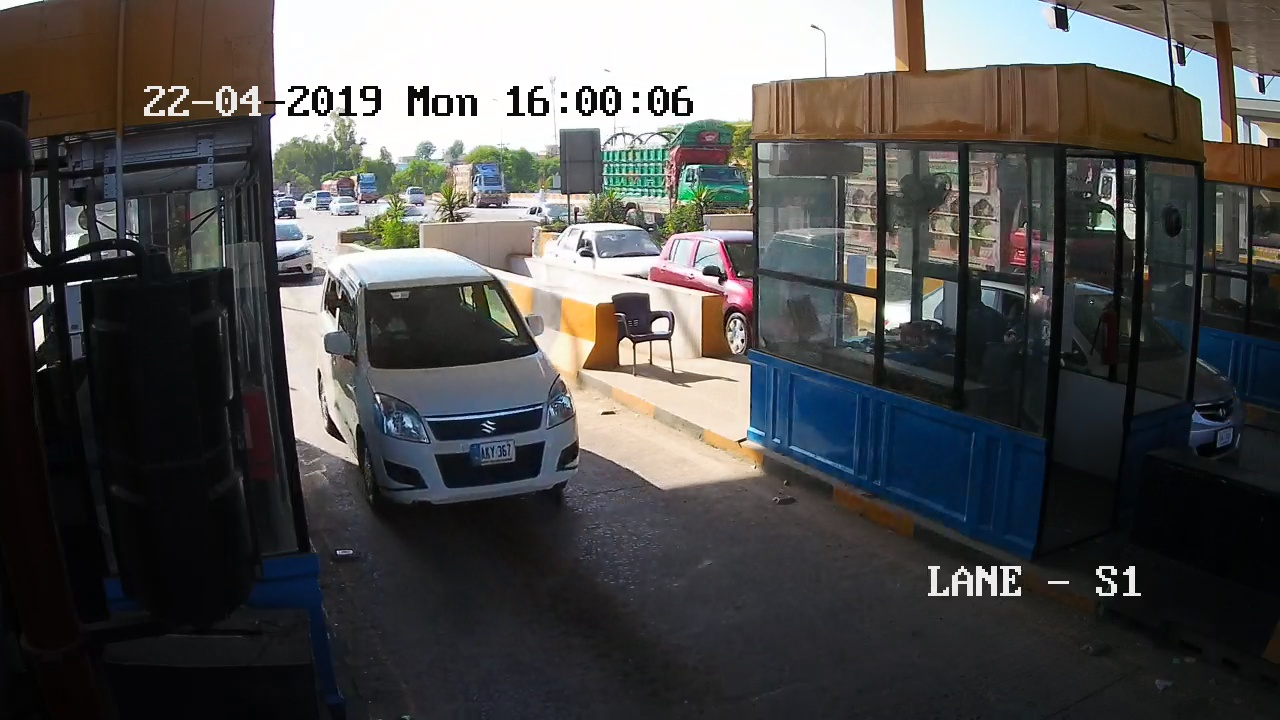Number Plate (Car): (470, 440, 518, 466)
